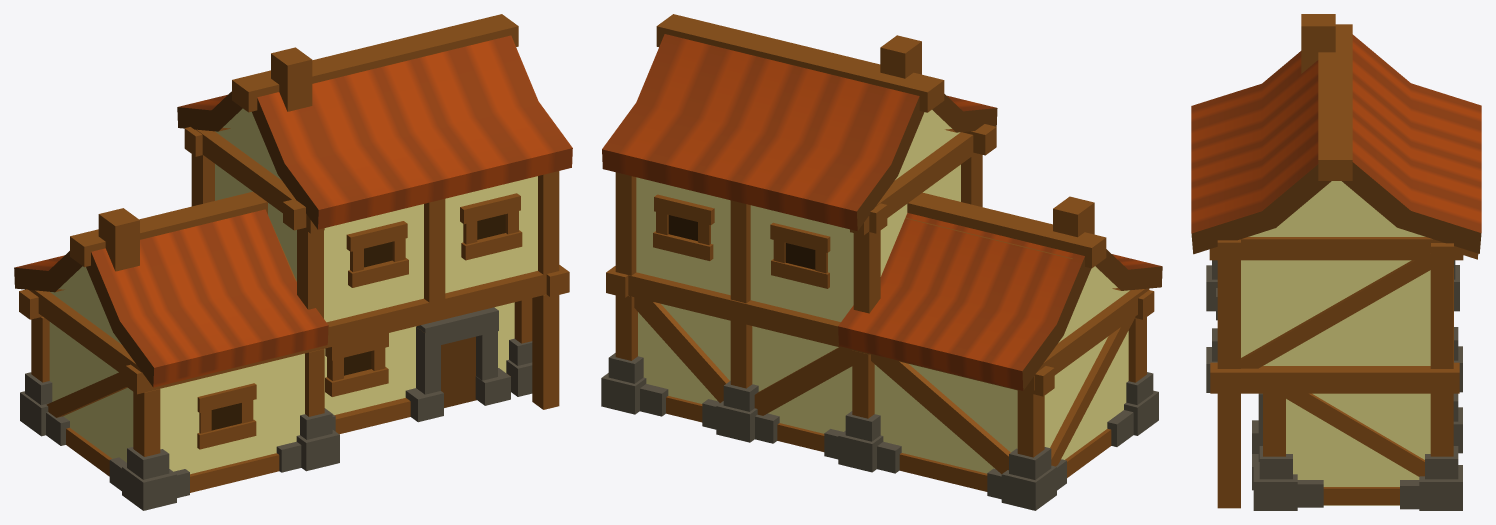
The model's file is LargeHouse.fbx.
3 views of the same model, side by side, from view 1: azimuth 30°, elevation 25°; view 2: azimuth 150°, elevation 25°; view 3: azimuth 270°, elevation 25° (orthographic). The views are drawn at different scales.
Visible parts, largest first — view 1: polySurface8; view 2: polySurface8; view 3: polySurface8.
Part boxes in pixels (<box>): polySurface8: <box>14,14,572,510</box>; polySurface8: <box>601,14,1162,510</box>; polySurface8: <box>1191,14,1481,510</box>.
Size of the model in its own units: 197 by 159 by 110.
Materials: 1 (1 with a texture image).
